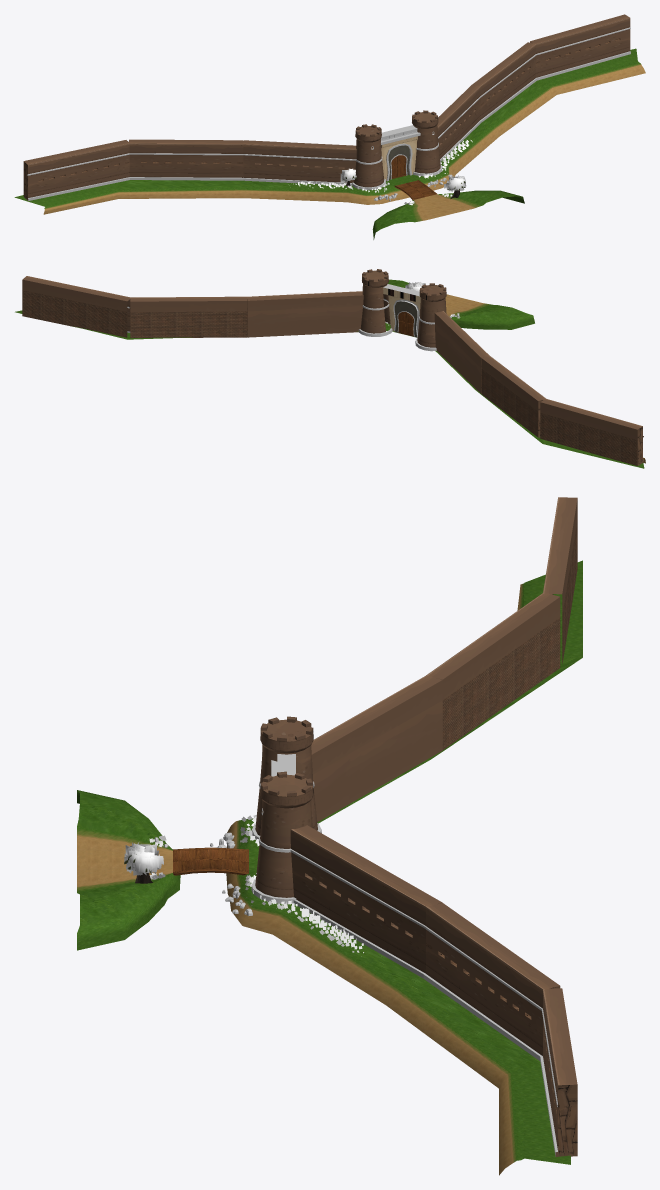
The model's file is t1_entranceMain.fbx.
The picture shows the model from 3 angles, top to bottom: view 1: azimuth 30°, elevation 25°; view 2: azimuth 150°, elevation 25°; view 3: azimuth 270°, elevation 25°; orthographic projection. The views are drawn at different scales.
Parts seen in each view (by area): view 1: Plane, Plane.385, Cylinder.001; view 2: Plane; view 3: Plane, Plane.385, Cylinder.001.
Boxes of the visible parts, x1=… form: Plane: x1=14, y1=14, x2=645, y2=239; Plane.385: x1=293, y1=140, x2=472, y2=205; Cylinder.001: x1=340, y1=168, x2=466, y2=198; Plane: x1=15, y1=269, x2=645, y2=468; Plane: x1=77, y1=497, x2=582, y2=1175; Plane.385: x1=149, y1=814, x2=363, y2=956; Cylinder.001: x1=124, y1=842, x2=163, y2=883.
Size of the model in its own units: 6653 by 649 by 2354.
